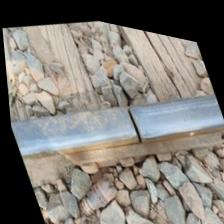person: (96, 79, 169, 156)
